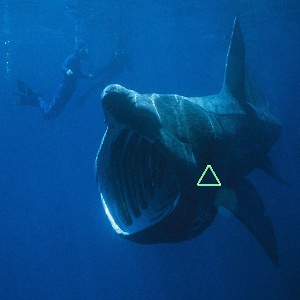triangle: (195, 162, 224, 188)
